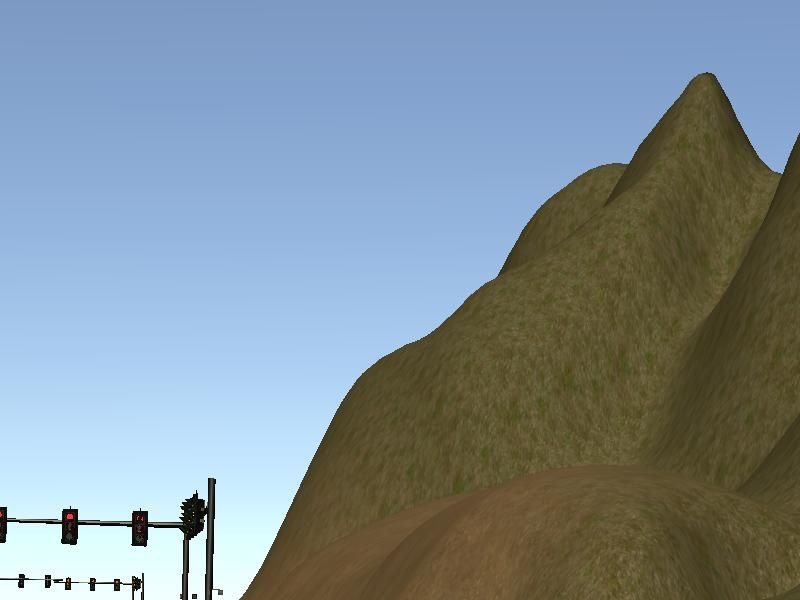traffic_light_red: (1, 507, 183, 545)
